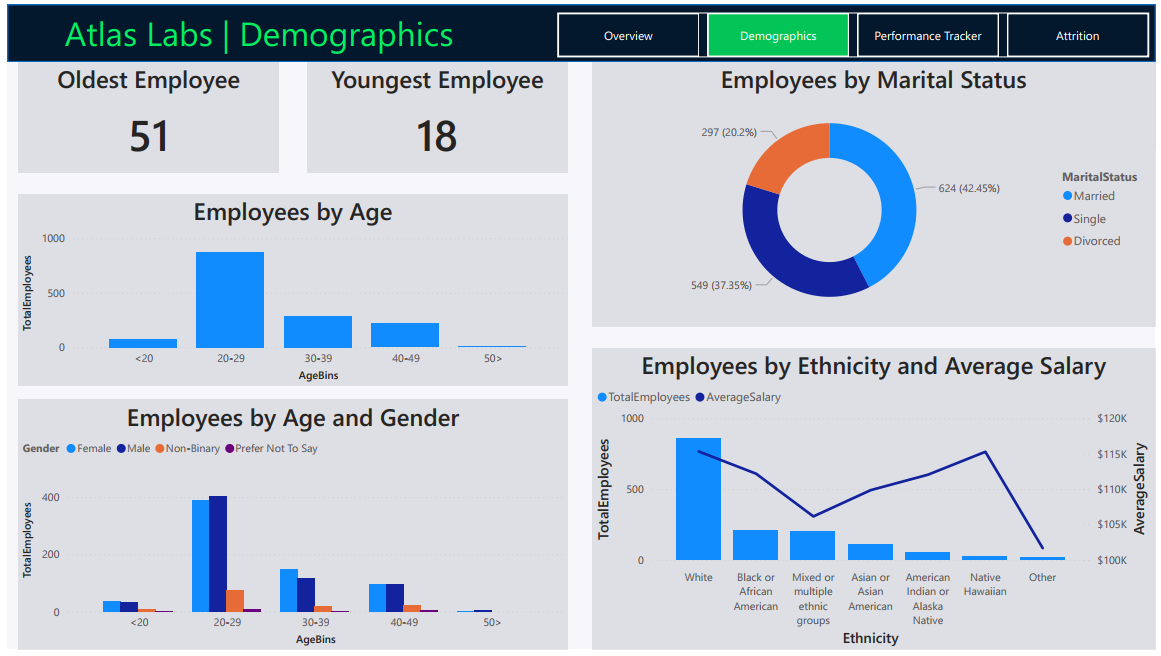

Layout of this report page (visuals, bound fields, positions):
{"tool":"powerbi","page":{"name":"Demographics","canvas":[1280,720],"ordinal":1},"visuals":[{"type":"card","title":"Youngest Employee","fields":{"Values":["Min(Dim_Employee.Age)"]},"box":[333.9,63.8,290.9,124],"z":0},{"type":"card","title":"Oldest Employee","fields":{"Values":["Max(Dim_Employee.Age)"]},"box":[12.3,63.8,290.9,124],"z":1000},{"type":"clusteredColumnChart","title":"Employees by Age","fields":{"Category":["Dim_Employee.AgeBins"],"Y":["_Measures.TotalEmployees"]},"box":[12.3,212.4,612.5,213.6],"z":2000},{"type":"clusteredColumnChart","title":"Employees by Age and Gender","fields":{"Category":["Dim_Employee.AgeBins"],"Y":["_Measures.TotalEmployees"],"Series":["Dim_Employee.Gender"]},"box":[12.3,440.7,612.5,279.9],"z":3000},{"type":"donutChart","title":"Employees by Marital Status","fields":{"Category":["Dim_Employee.MaritalStatus"],"Y":["_Measures.TotalEmployees"]},"box":[651.8,63.8,628.5,295.8],"z":4000},{"type":"lineClusteredColumnComboChart","title":"Employees by Ethnicity and Average Salary","fields":{"Category":["Dim_Employee.Ethnicity"],"Y":["_Measures.TotalEmployees"],"Y2":["_Measures.AverageSalary"]},"box":[651.8,383,628.5,337.6],"z":5000},{"type":"shape","box":[0,0,1280,64],"z":6000},{"type":"textbox","box":[59.1,1.2,462.1,62.7],"z":7000},{"type":"pageNavigator","box":[612.5,8.6,660.4,50.3],"z":8000}]}

Visuals, with their boxes in screenshot pixels (x1, y1, x2, y2), scaled from the page's 1280x720 canvas onto the 1161x656 screenshot:
"Youngest Employee" card: {"left": 303, "top": 58, "right": 567, "bottom": 171}
"Oldest Employee" card: {"left": 11, "top": 58, "right": 275, "bottom": 171}
"Employees by Age" clusteredColumnChart: {"left": 11, "top": 194, "right": 567, "bottom": 388}
"Employees by Age and Gender" clusteredColumnChart: {"left": 11, "top": 402, "right": 567, "bottom": 655}
"Employees by Marital Status" donutChart: {"left": 591, "top": 58, "right": 1160, "bottom": 328}
"Employees by Ethnicity and Average Salary" lineClusteredColumnComboChart: {"left": 591, "top": 349, "right": 1160, "bottom": 655}
shape: {"left": 0, "top": 0, "right": 1160, "bottom": 58}
textbox: {"left": 54, "top": 1, "right": 473, "bottom": 58}
pageNavigator: {"left": 556, "top": 8, "right": 1155, "bottom": 54}
